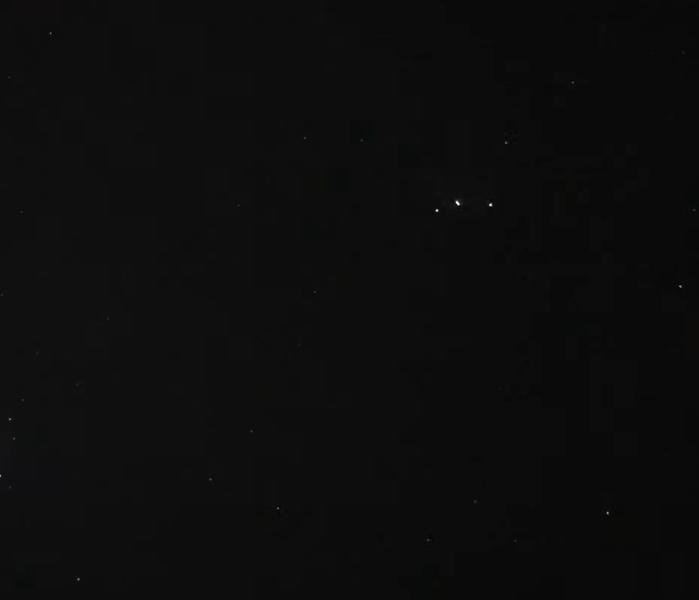Plane: (404, 183, 516, 221)
